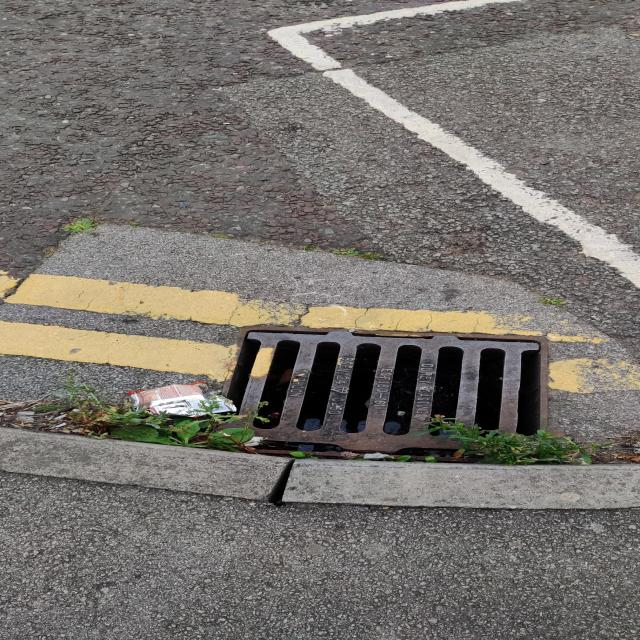litter: (125, 384, 237, 417)
